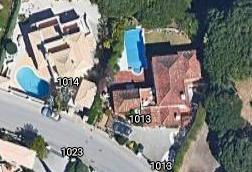pool: (16, 65, 52, 100), (123, 26, 148, 73)
